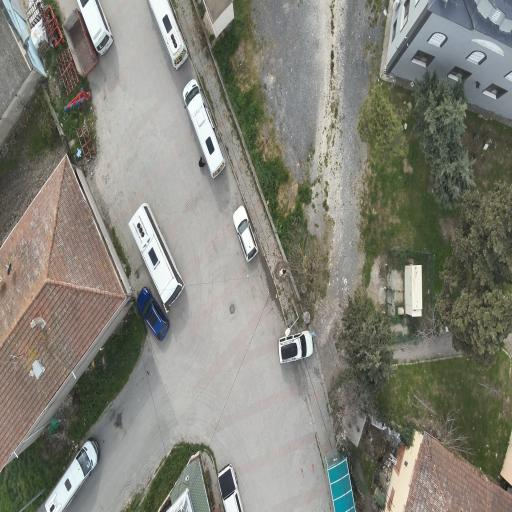car: (129, 203, 183, 311), (183, 80, 225, 178), (45, 439, 99, 511), (148, 0, 188, 69), (77, 0, 113, 55), (137, 287, 169, 340), (233, 206, 257, 261), (278, 330, 313, 364), (218, 464, 243, 511)
person: (199, 156, 205, 167)
